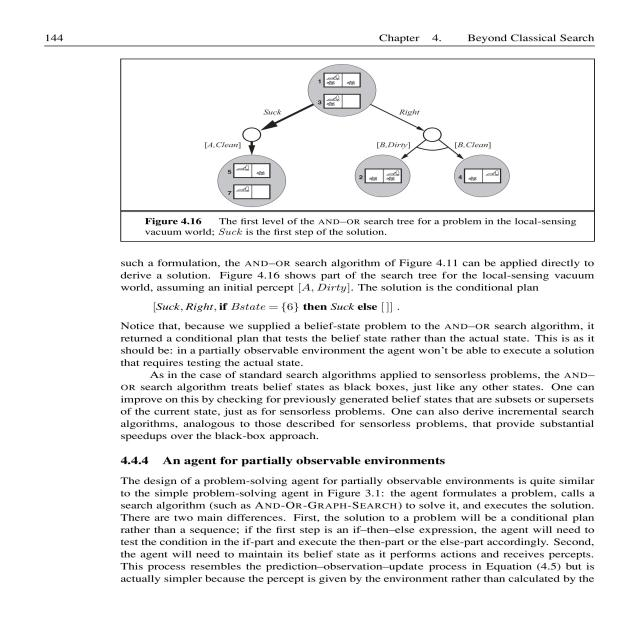diagram: (103, 52, 640, 259)
